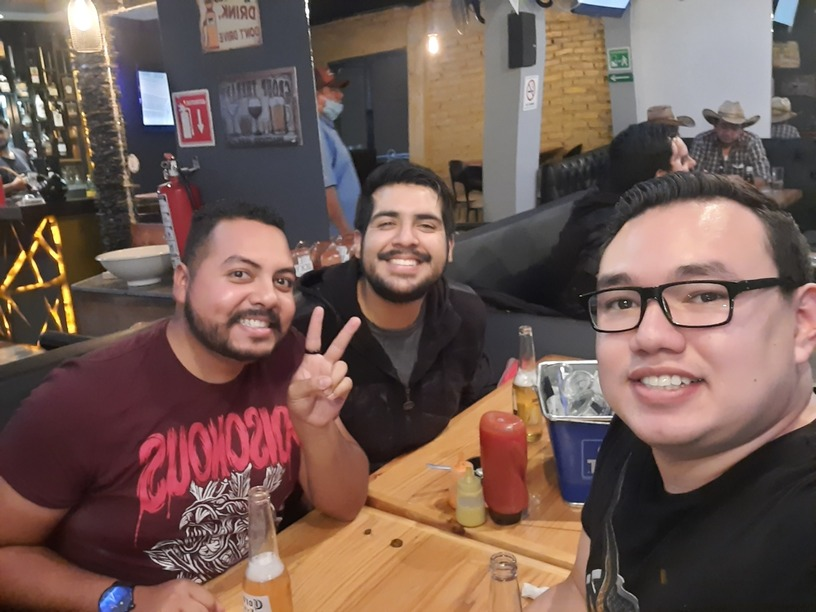Yoshi: (154, 202, 342, 378)
